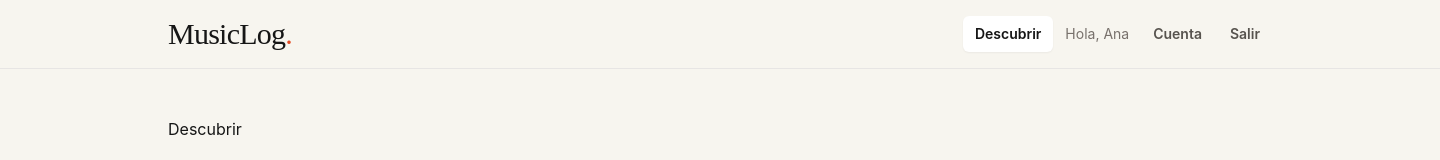
Test: AppLayout › opens account settings from the authenticated navigation
The width and height of the screenshot is (1440, 160).
What coordinates should you click on to do the following:
click the link "Cuenta"
I would click on:
 (1178, 34)
Its box is [1153,25,1202,42].
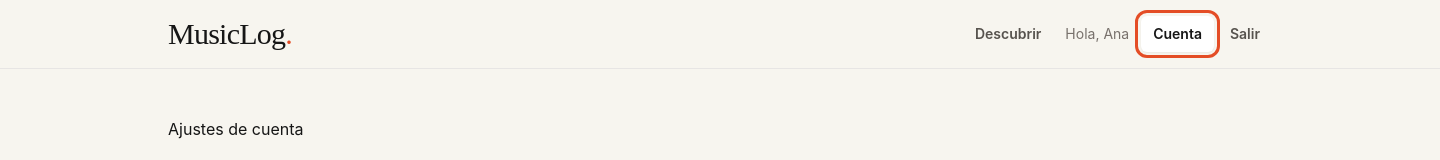
Now the text "Ajustes de cuenta" is shown, box [168,119,304,139]
